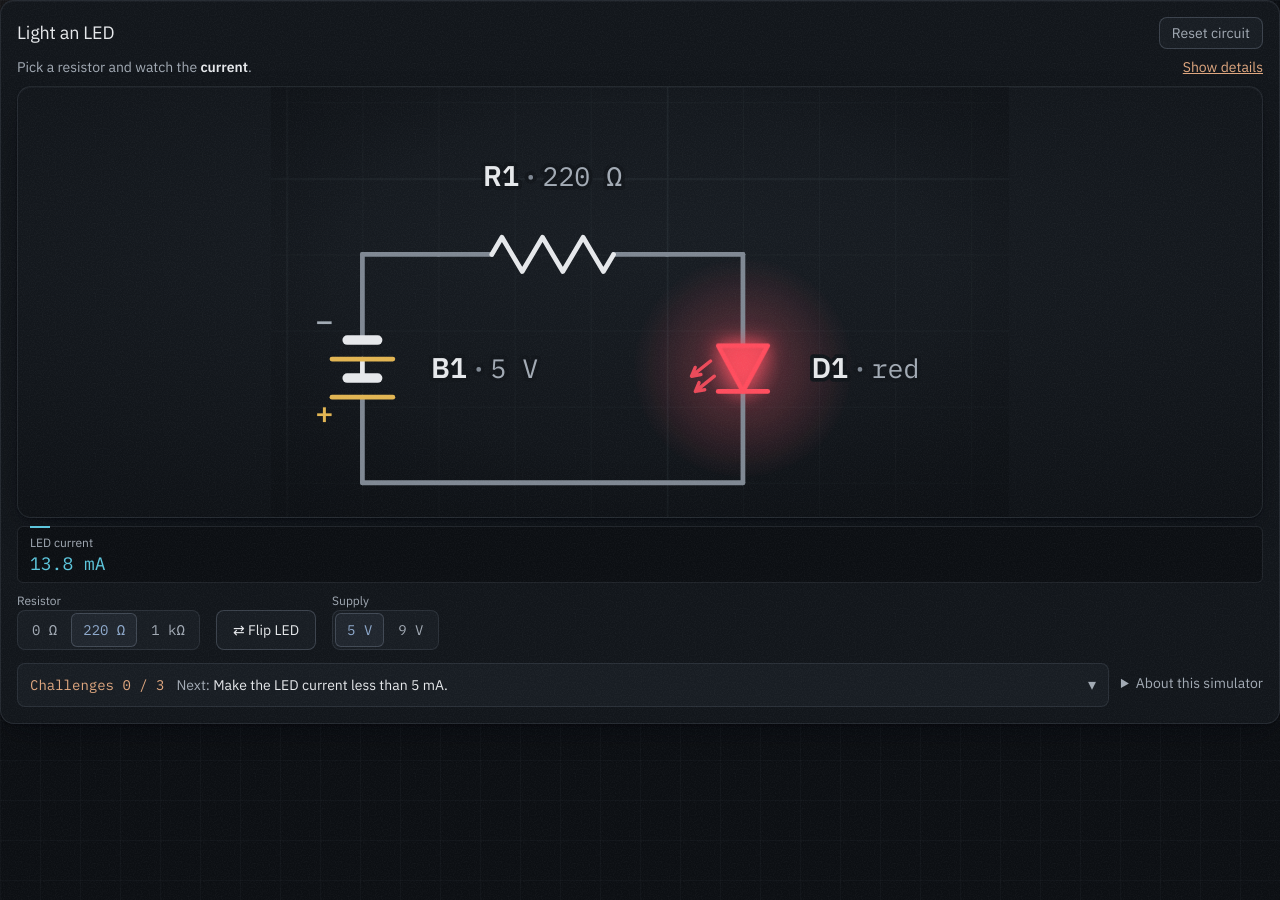
Lab › says so when a later challenge is met before its turn
Click the button "⇄ Flip LED".
click(266, 630)  # box [216, 610, 316, 650]
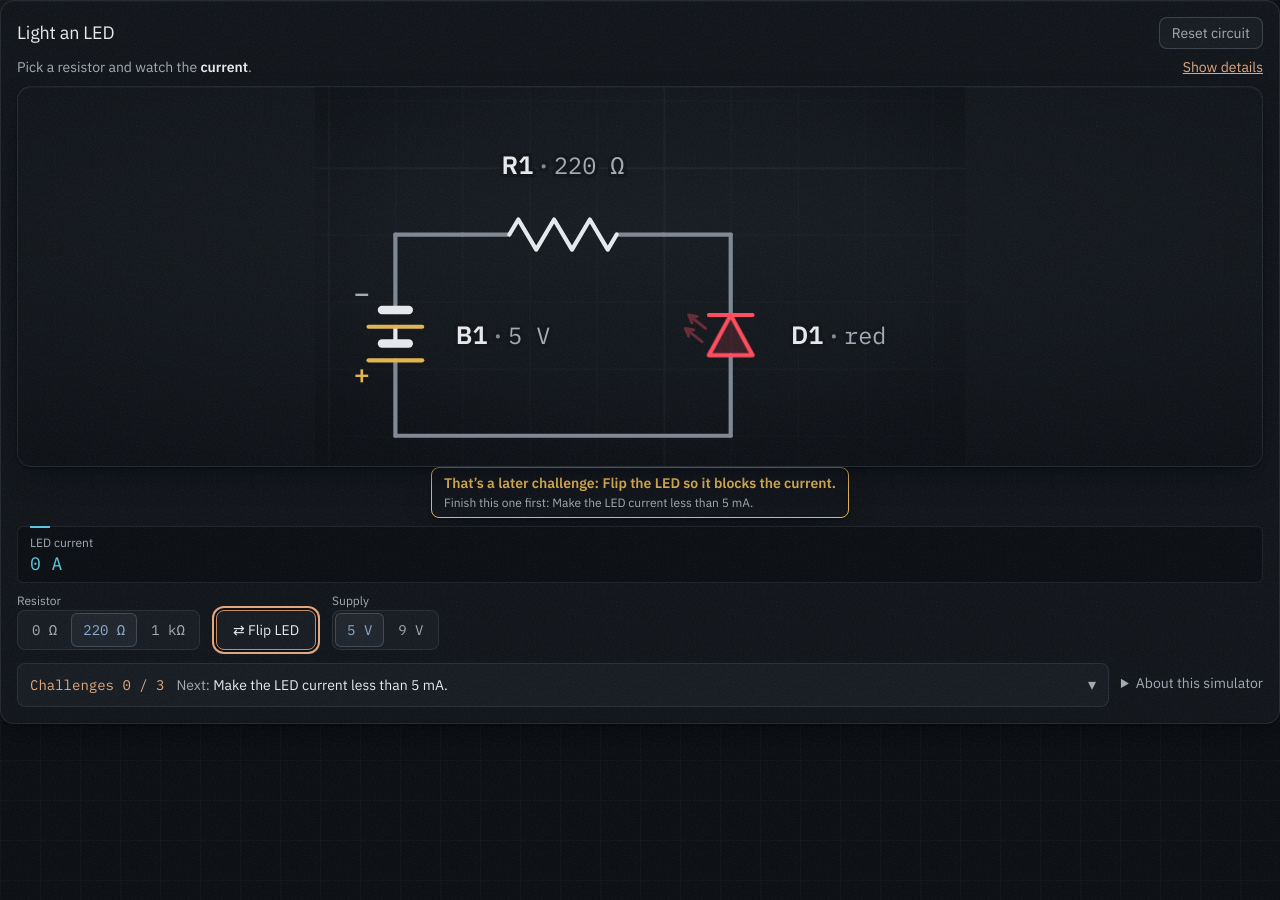
Expected: the text "Challenges 0 / 3" is shown, [30, 674, 164, 697]
Expected: the element with class "lab-chip-region" shows "That’s a later challenge: Flip the LED", [431, 467, 849, 518]
Expected: the element with class "lab-chip-region" shows "Finish this one first: Make the LED current less than 5 mA.", [431, 467, 849, 518]
